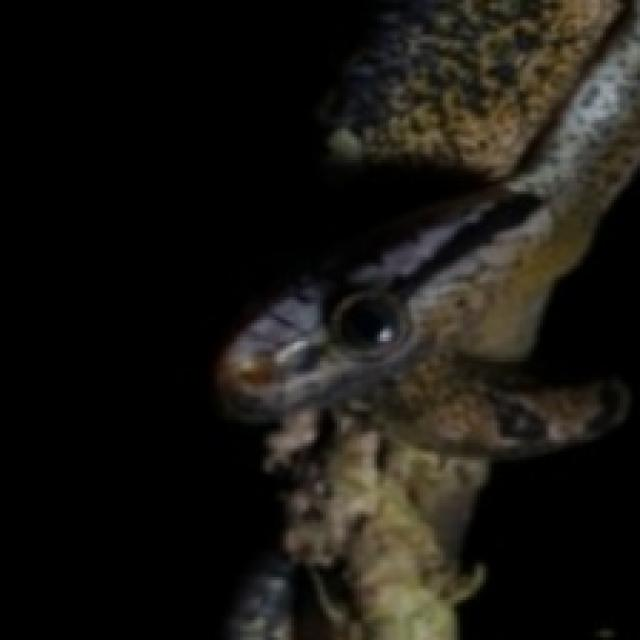dog-toothed cat snake: (217, 0, 637, 637)
